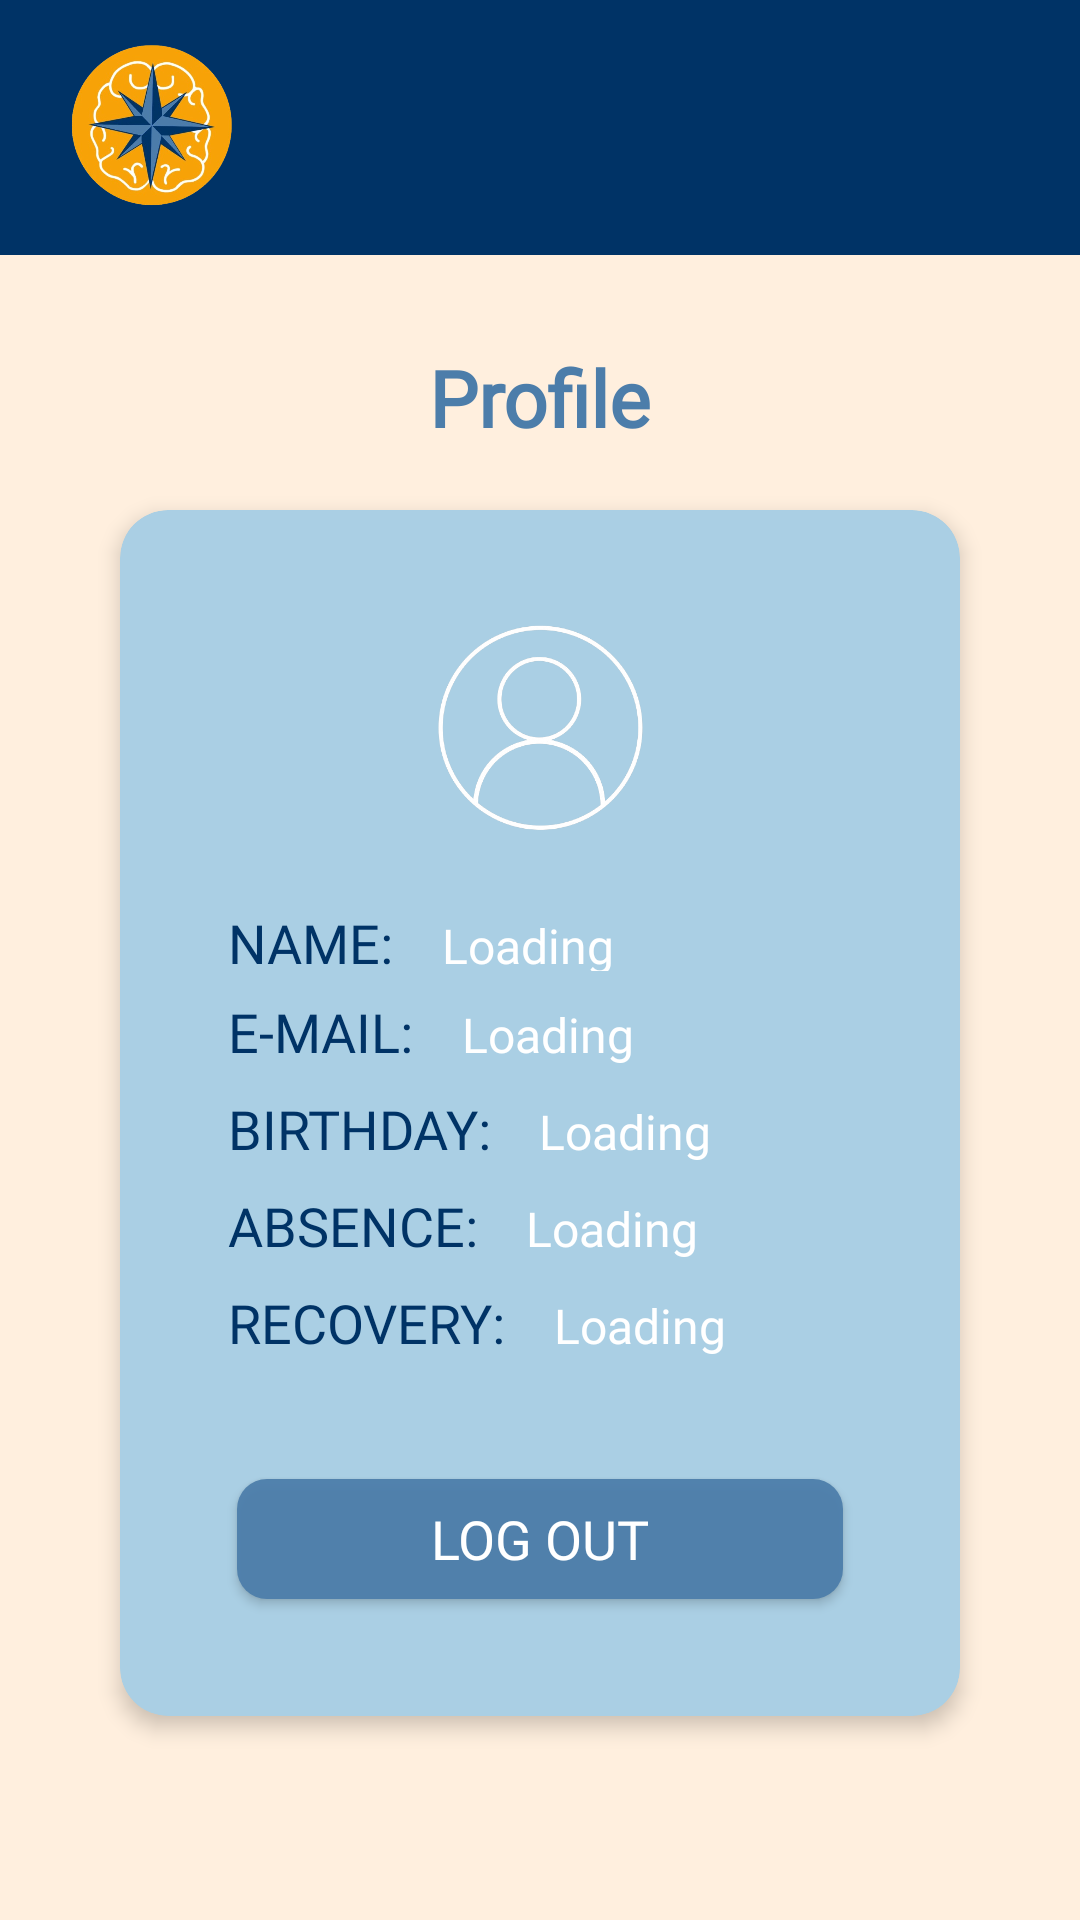

Icon bounding boxes for this 1080px×1920px phone screenshot, format {"x1": x1, "y1": y1, "x2": x2, "y2": y2}:
perfil: {"x1": 438, "y1": 626, "x2": 643, "y2": 830}
